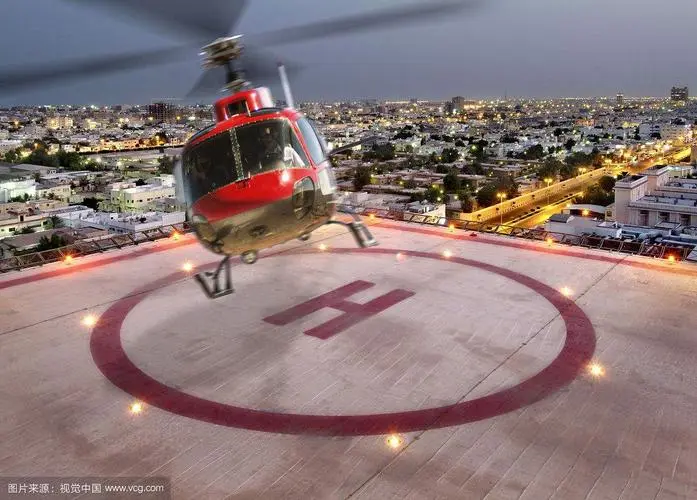Apron: (88, 246, 596, 436)
